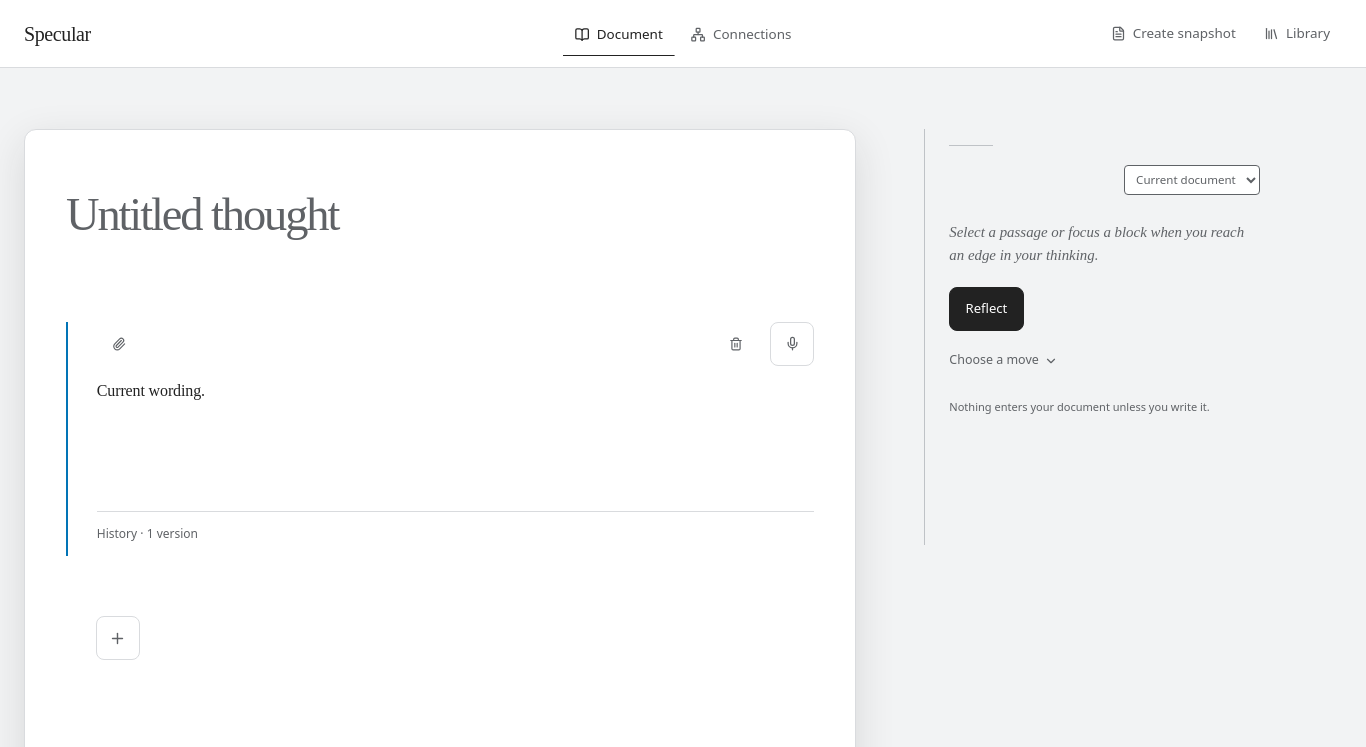
it: Specular thinking workspace › announces version restoration and returns focus to the restored writing
Click the heading "History · 1 version" at [147, 534], box [97,525,198,542]
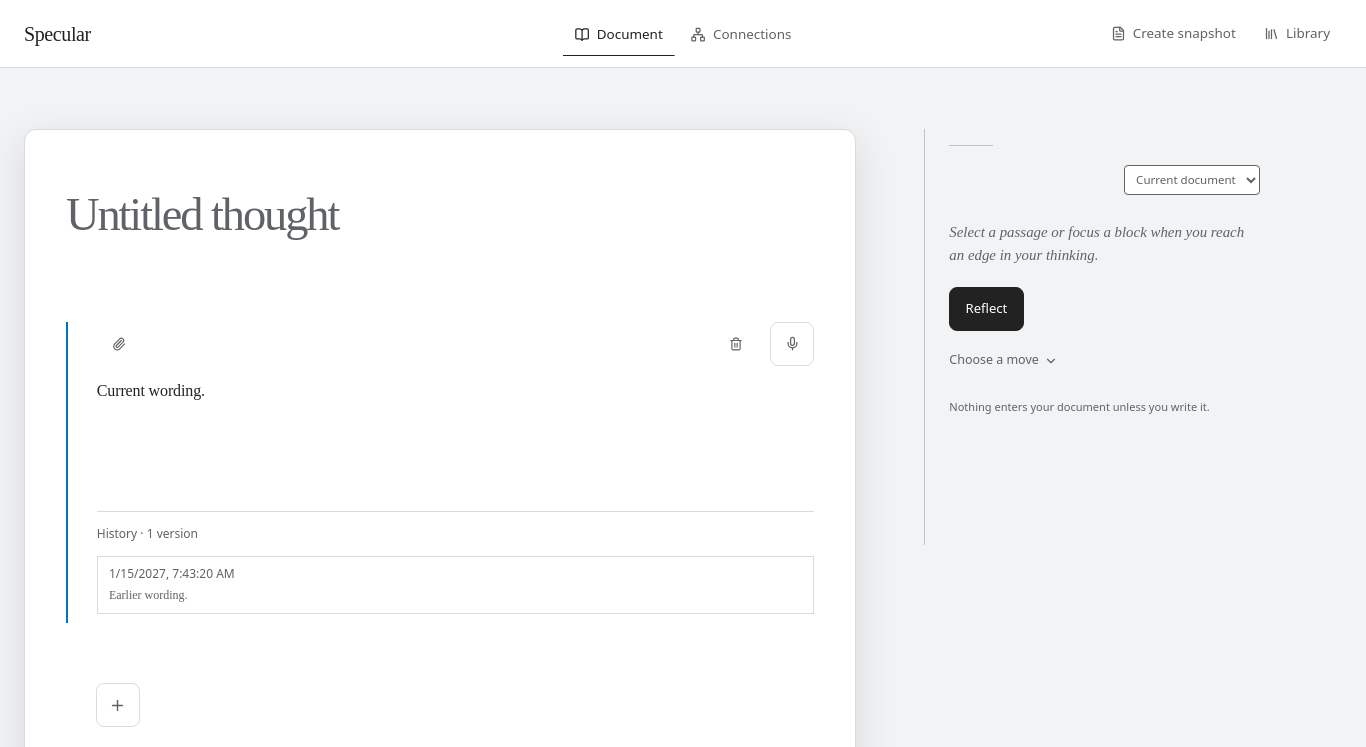
Click the button "1/15/2027, 7:43:20 AM Earlier wording." at [172, 574], box [97,556,814,614]
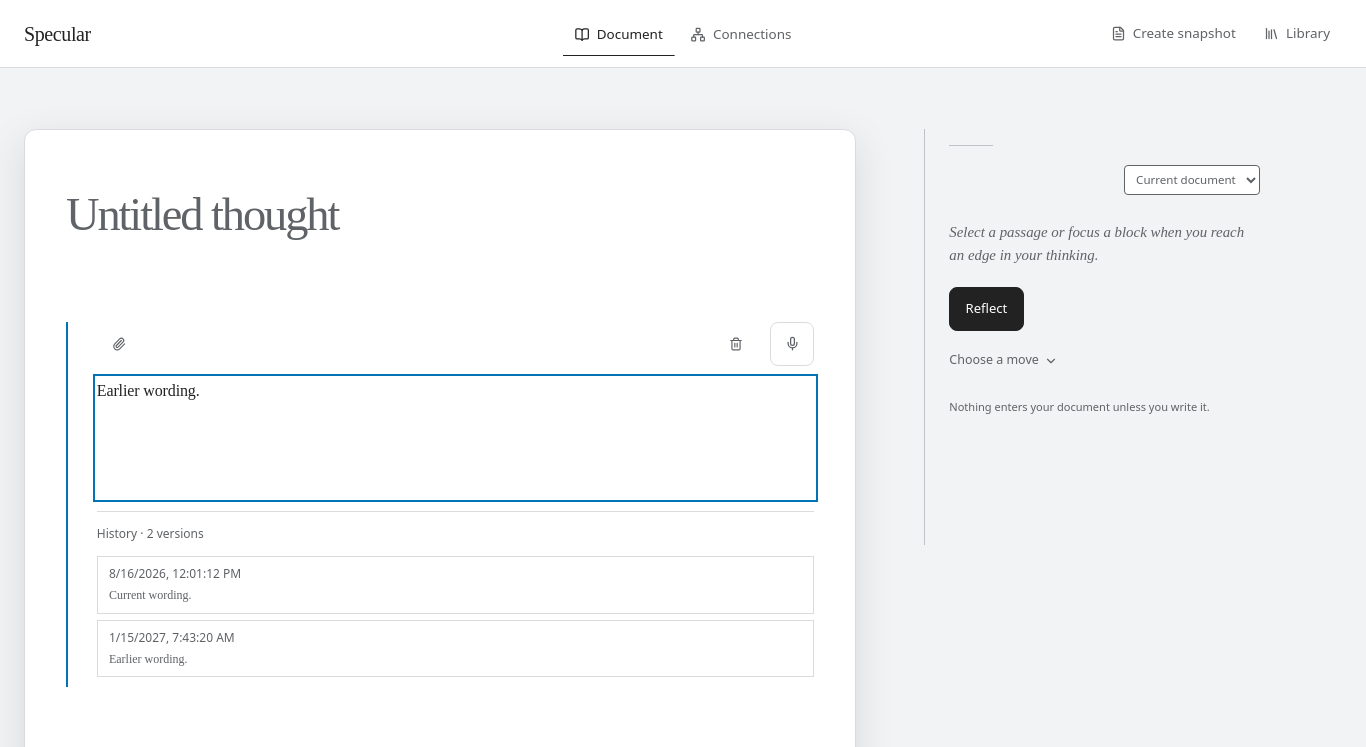
Expected: the text box named "Thought writing block" holds "Earlier wording.", [97,378,814,498]
